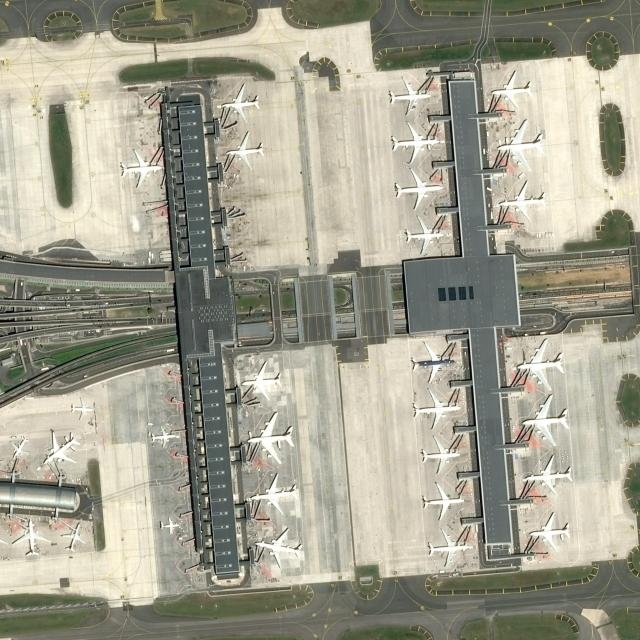aircraft: (520, 393, 572, 448), (245, 411, 298, 464), (517, 336, 567, 392), (498, 118, 546, 171), (522, 452, 574, 494), (251, 527, 303, 569), (497, 180, 547, 223), (388, 120, 439, 162), (393, 168, 442, 210), (248, 476, 302, 514), (527, 511, 572, 553), (408, 342, 455, 382), (411, 392, 460, 430), (488, 70, 534, 109), (401, 217, 447, 255), (385, 76, 432, 113), (240, 362, 284, 401), (425, 528, 472, 564), (117, 147, 161, 185), (421, 482, 465, 520), (416, 435, 460, 472), (224, 132, 266, 167), (12, 518, 49, 556), (41, 429, 79, 466), (219, 88, 262, 120), (58, 522, 86, 552), (149, 426, 179, 448), (9, 433, 31, 459), (68, 397, 94, 419), (159, 516, 181, 534)
